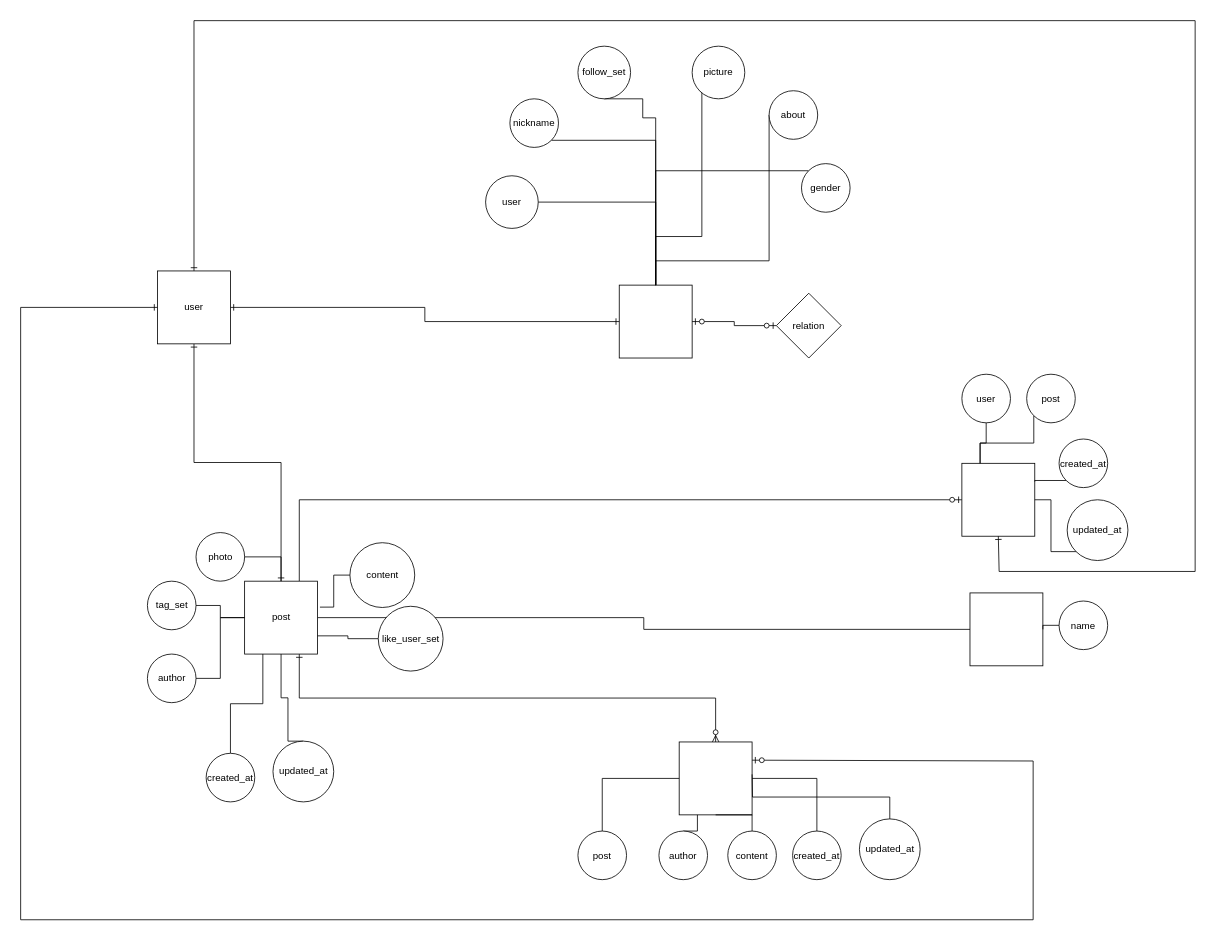
This 1217x941 diagram has some shape labels left out. The shapes that lost their labels are listed below. From the top down, each one's centre as x and y in pixels, then its label:
the point at 655,321: porfile
the point at 998,499: like
the point at 1006,629: tag
the point at 715,778: comment
